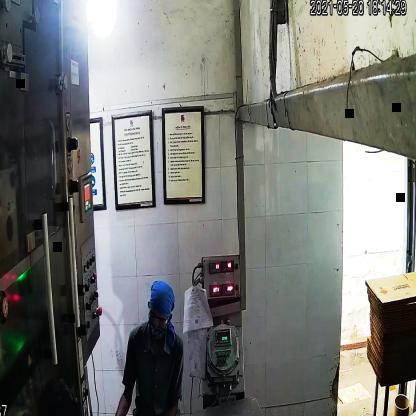goggles: (146, 306, 172, 332)
